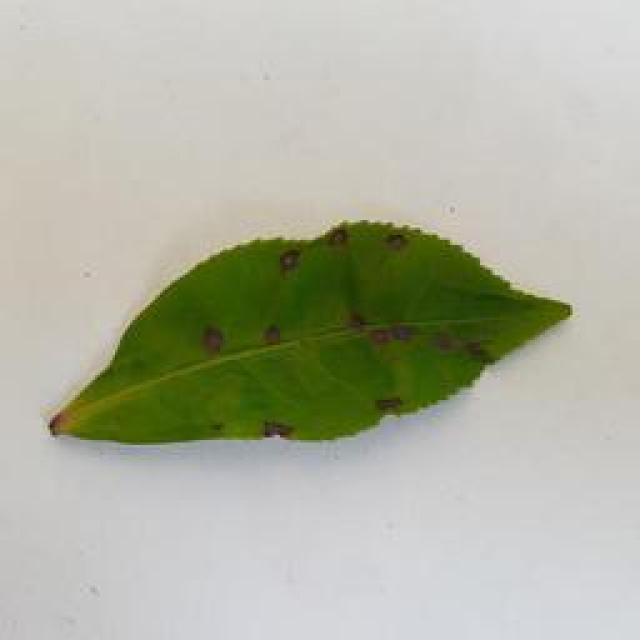Helopeltis: (45, 214, 578, 486)
